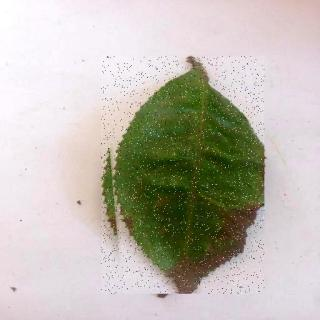Brown Blight: (103, 57, 266, 295)
